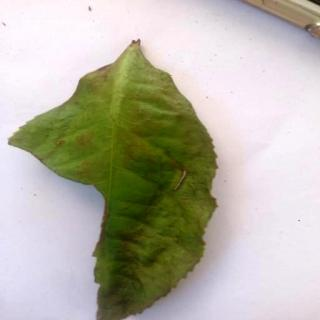Brown Blight: (8, 40, 219, 320)
